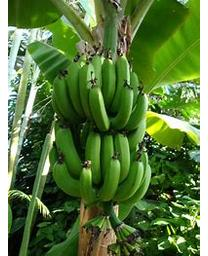banana: (46, 49, 151, 221)
